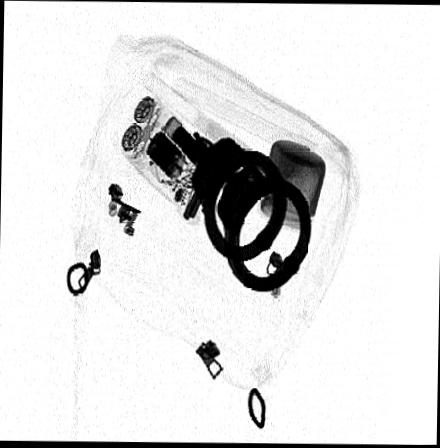HandCuffs: (188, 130, 310, 292)
